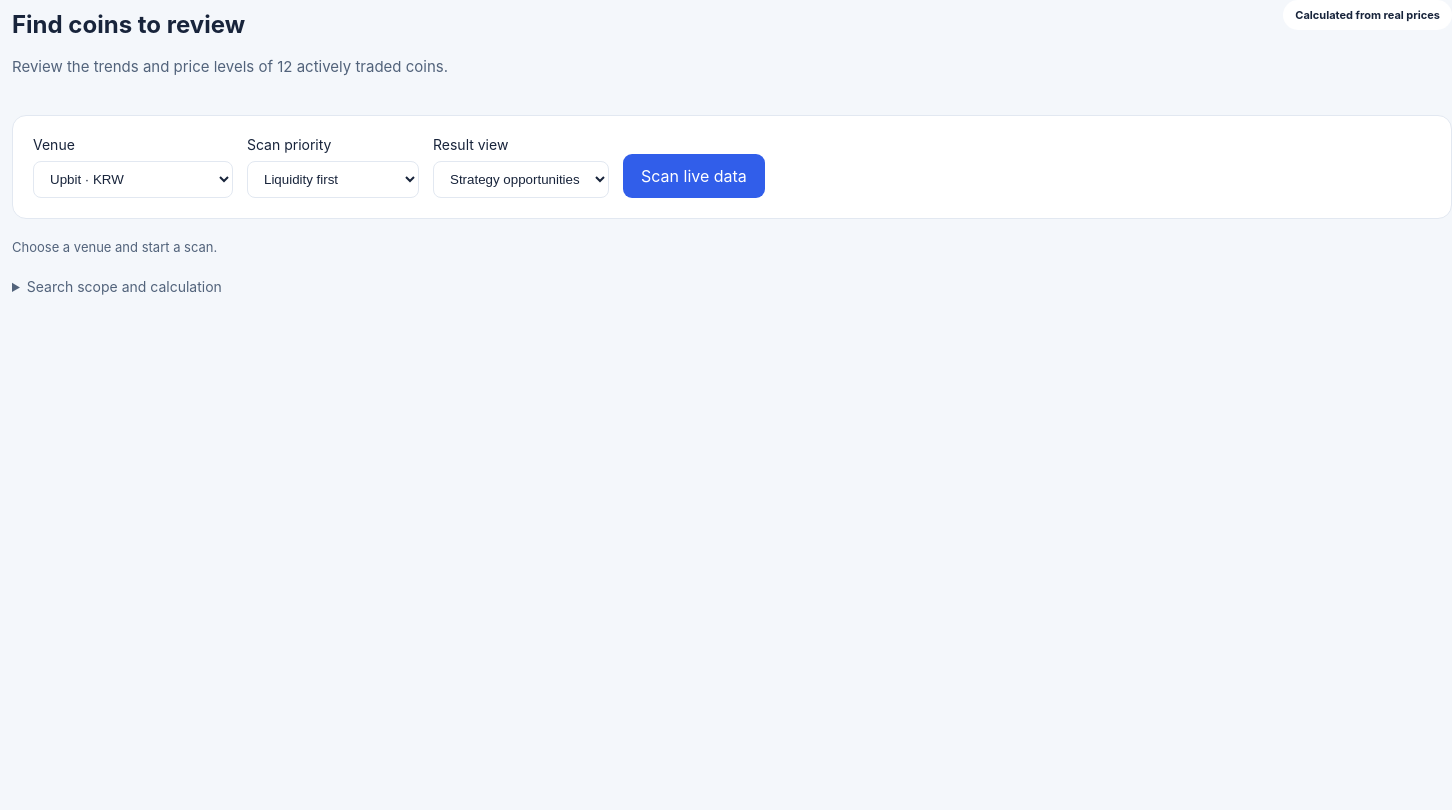
starts only on request, displays real result coverage and supports filters and analysis links
The width and height of the screenshot is (1452, 810).
Select "Trend scan" in the dropdown labelled "Result view": (521, 179) [433, 160, 609, 198]
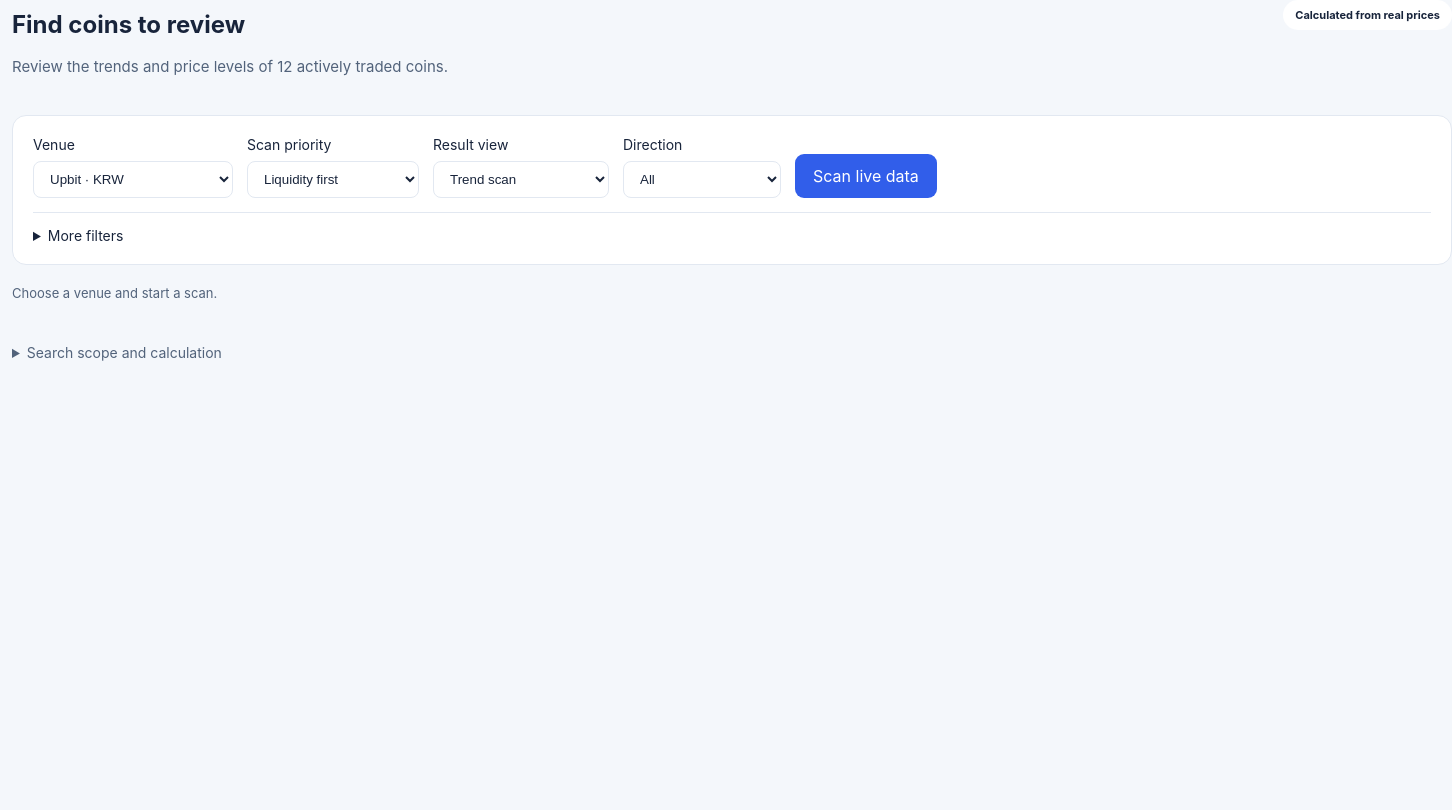
Click the button "Scan live data": click(866, 176) [795, 154, 937, 198]
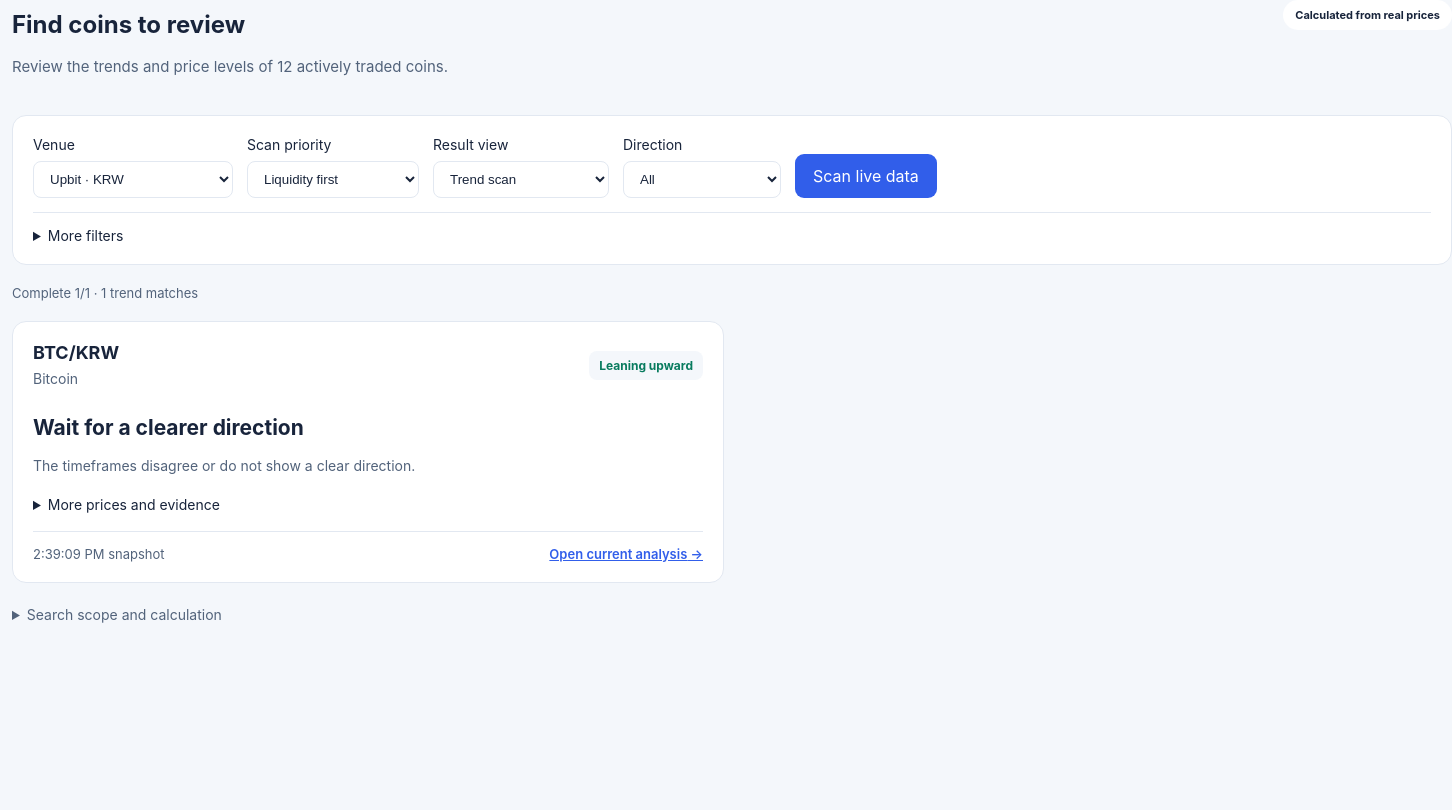
Select "Leaning downward" in the dropdown labelled "Direction": (702, 179) [623, 160, 781, 198]
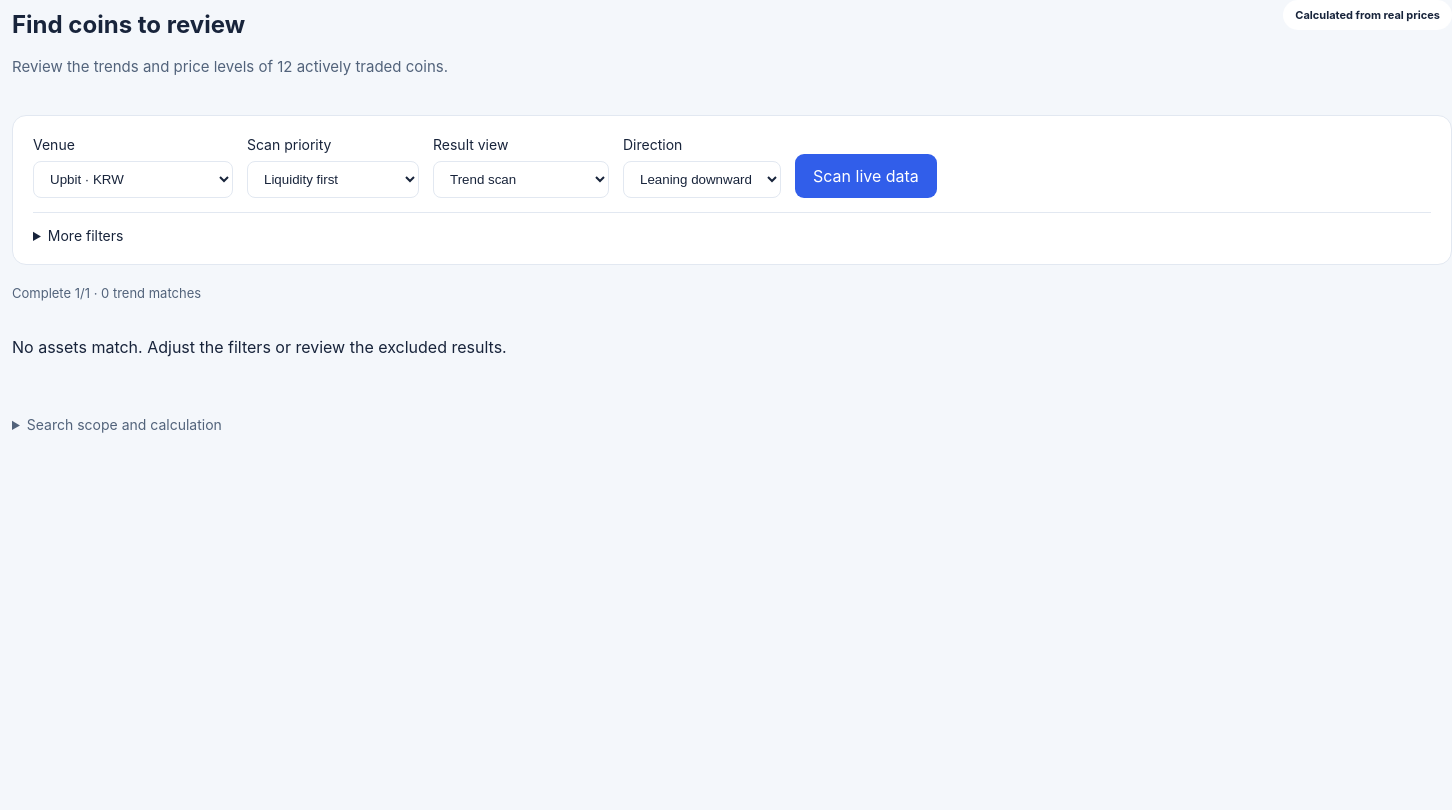
expect the link "Open current analysis" is gone: met
